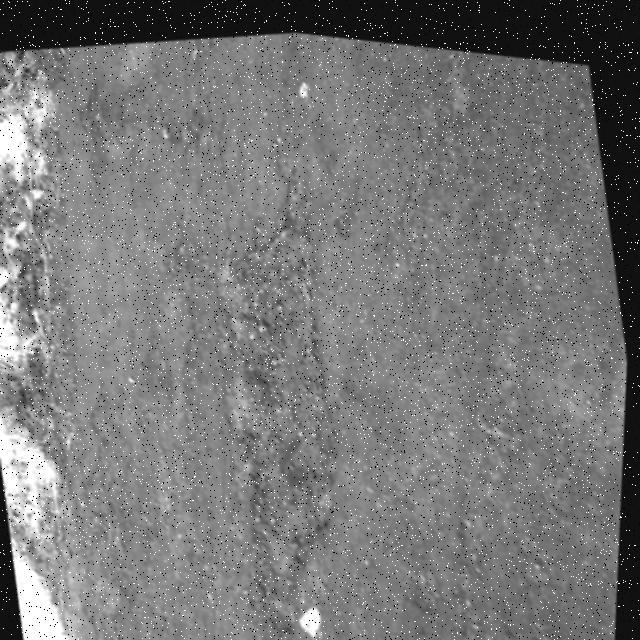pothole: (170, 192, 398, 640)
